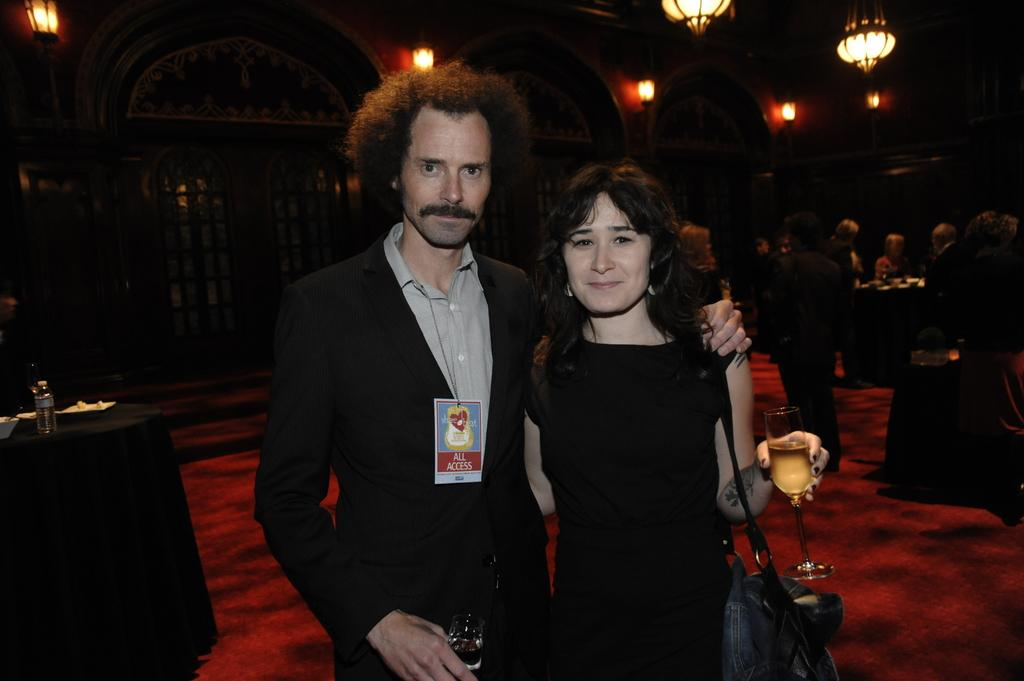Sem Máscara: (397, 104, 493, 242), (562, 188, 654, 313), (774, 229, 789, 256), (701, 253, 716, 271), (757, 237, 768, 253)
